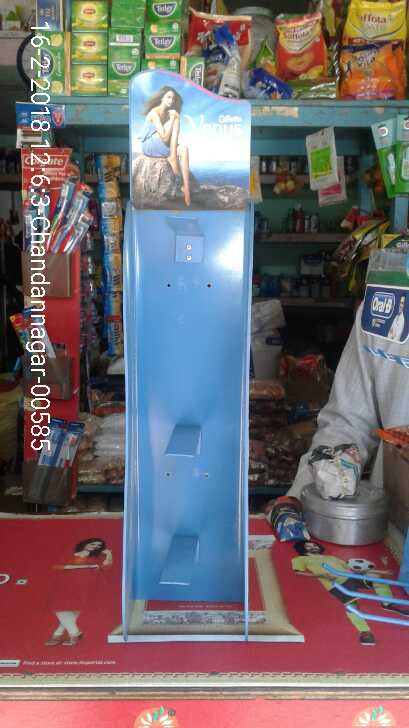reject: (148, 196, 240, 339)
